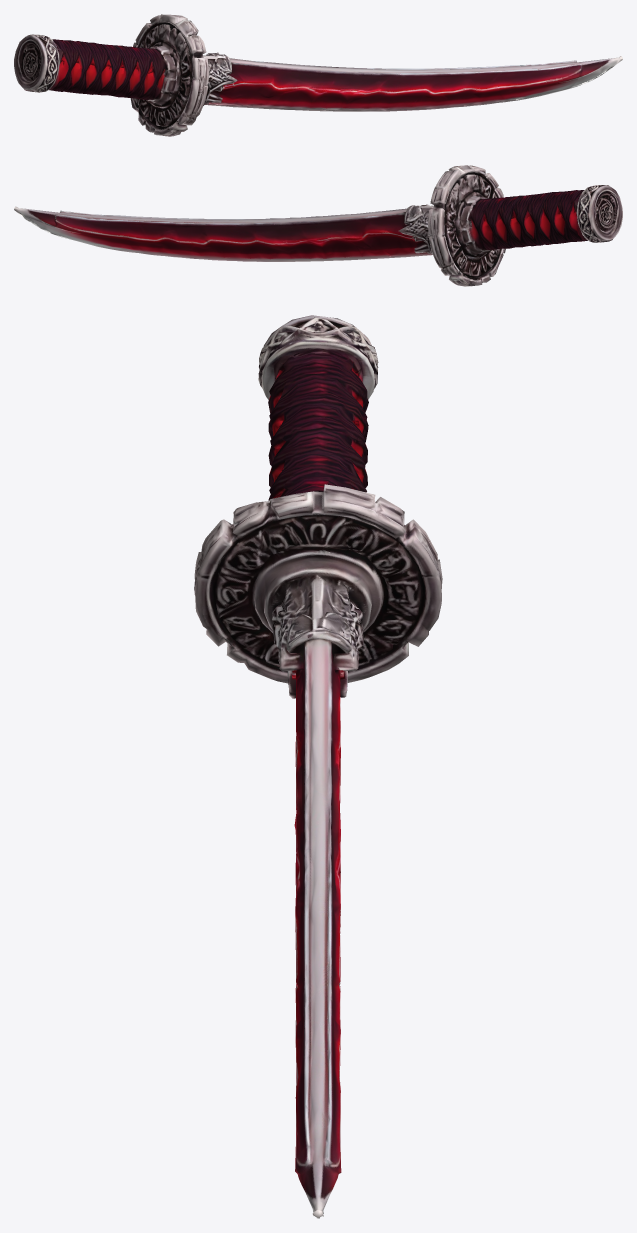
The model's file is katana.glb.
3 renders of one model, top to bottom at view 1: azimuth 30°, elevation 25°; view 2: azimuth 150°, elevation 25°; view 3: azimuth 270°, elevation 25°, orthographic. The views are drawn at different scales.
Visible parts, largest first — view 1: tripo_node_23950ba1-52ac-4b6a-81fb-06ef12db1809; view 2: tripo_node_23950ba1-52ac-4b6a-81fb-06ef12db1809; view 3: tripo_node_23950ba1-52ac-4b6a-81fb-06ef12db1809.
Part boxes in pixels (box(x1,y1,x2,y2)): tripo_node_23950ba1-52ac-4b6a-81fb-06ef12db1809: box(14, 14, 622, 136); tripo_node_23950ba1-52ac-4b6a-81fb-06ef12db1809: box(14, 165, 622, 286); tripo_node_23950ba1-52ac-4b6a-81fb-06ef12db1809: box(194, 315, 442, 1218).
Size of the model in its own units: 0.9808 by 0.2849 by 0.1758.
1 material, 1 textured.
